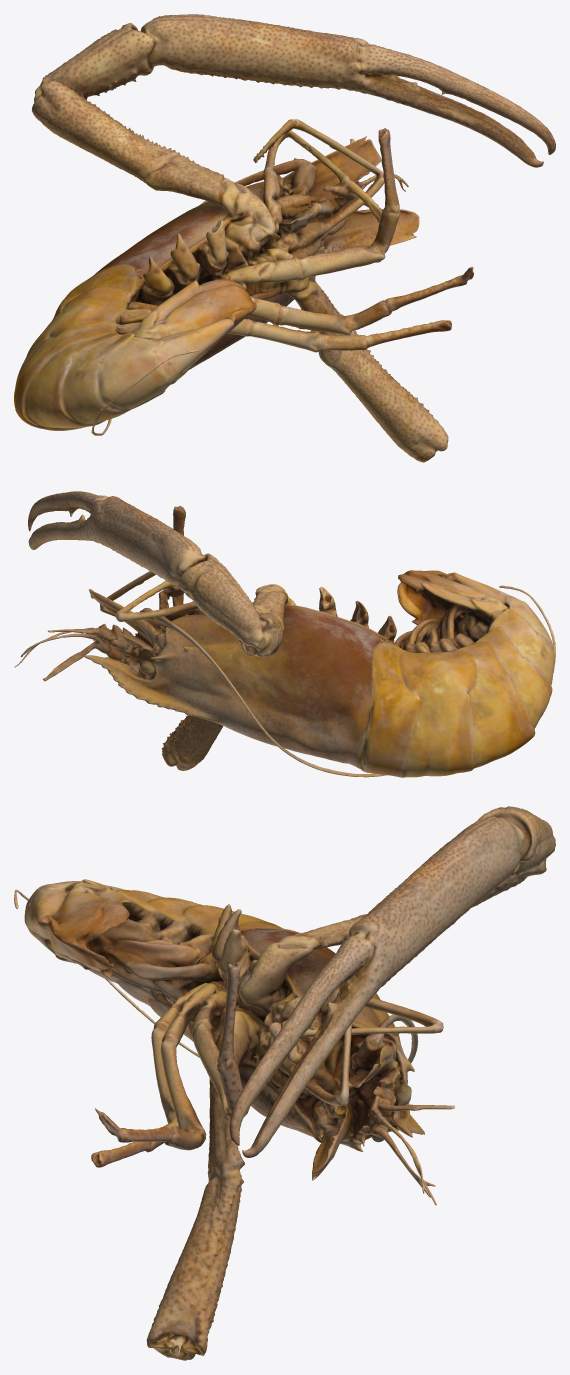
File: Macrobrachium_sp_-150k-1024-low.glb
The picture shows the model from 3 angles, top to bottom: view 1: azimuth 30°, elevation 25°; view 2: azimuth 150°, elevation 25°; view 3: azimuth 270°, elevation 25°; orthographic projection. The views are drawn at different scales.
Bounding box in the file's own units: 0.1955 × 0.1288 × 0.1353.
Materials: 1 (1 with a texture image).
